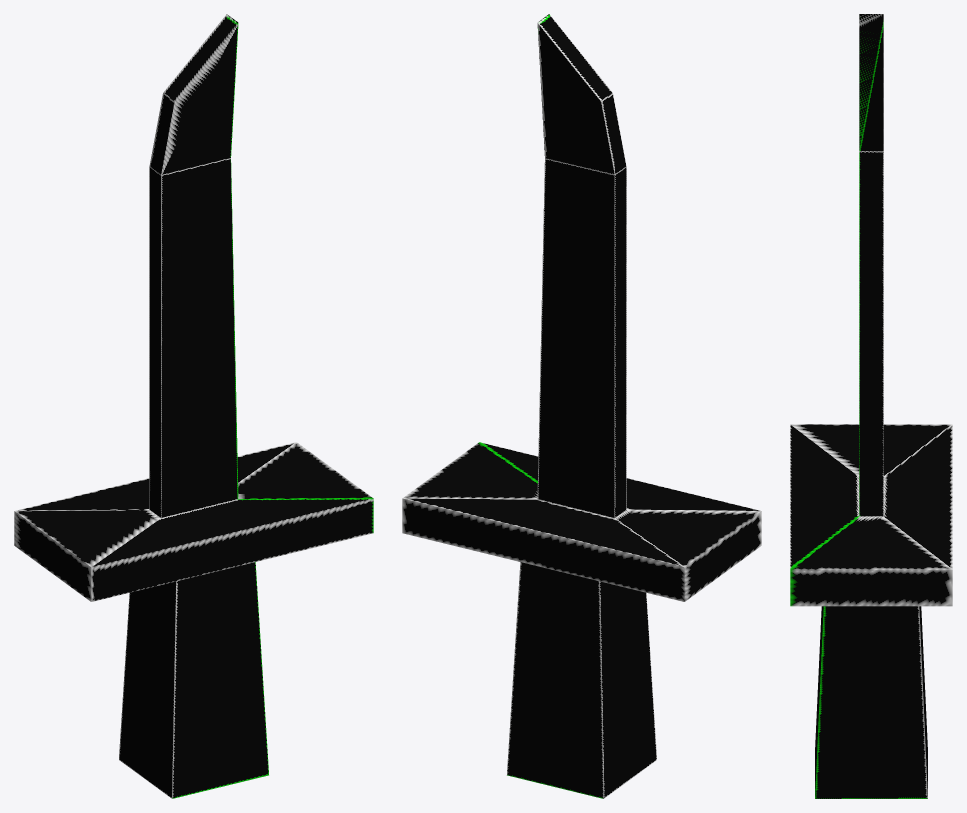
The model's file is Knife.FBX.
3 renders of one model, left to right at view 1: azimuth 30°, elevation 25°; view 2: azimuth 150°, elevation 25°; view 3: azimuth 270°, elevation 25°, orthographic. The views are drawn at different scales.
Parts seen in each view (by area): view 1: Knife; view 2: Knife; view 3: Knife.
Boxes of the visible parts, left/top/right/bottom form: Knife: left=14, top=14, right=373, bottom=798; Knife: left=402, top=14, right=761, bottom=798; Knife: left=790, top=14, right=952, bottom=798.
Bounding box in the file's own units: 14.92 × 37.37 × 7.04.
1 material, 1 textured.
